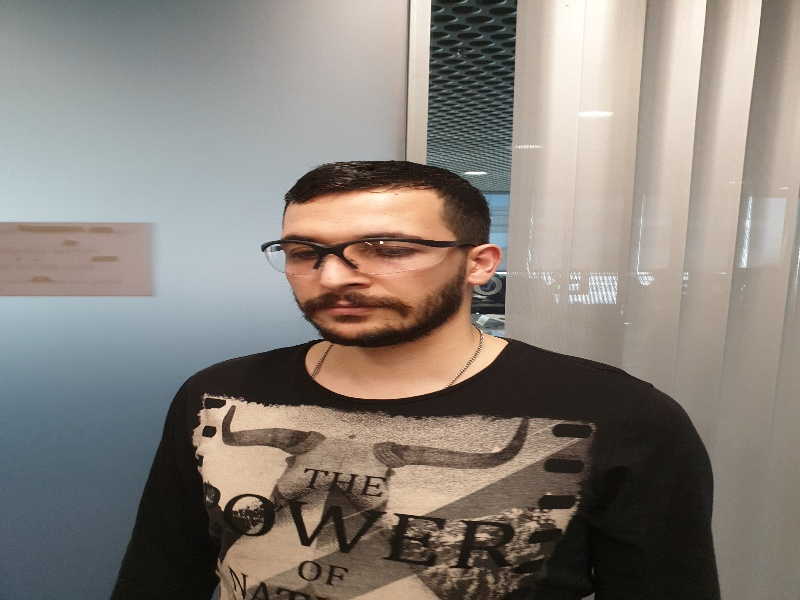Gozluk: (260, 235, 478, 270)
